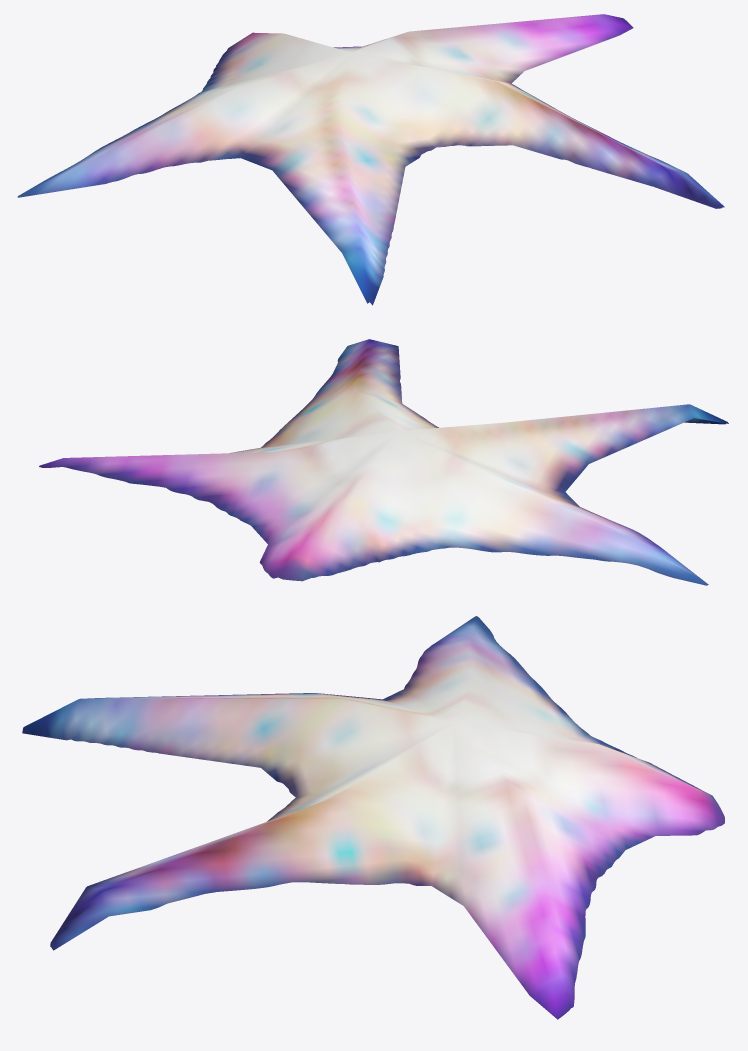
The model's file is Sea_haixing01.FBX.
3 renders of one model, top to bottom at view 1: azimuth 30°, elevation 25°; view 2: azimuth 150°, elevation 25°; view 3: azimuth 270°, elevation 25°, orthographic. The views are drawn at different scales.
Visible parts, largest first — view 1: haixing01; view 2: haixing01; view 3: haixing01.
Part boxes in pixels (x1,y1,x2,y2): haixing01: (17, 14, 724, 305); haixing01: (39, 339, 728, 585); haixing01: (22, 616, 724, 1019).
Bounding box in the file's own units: 58.41 × 7.51 × 44.49.
